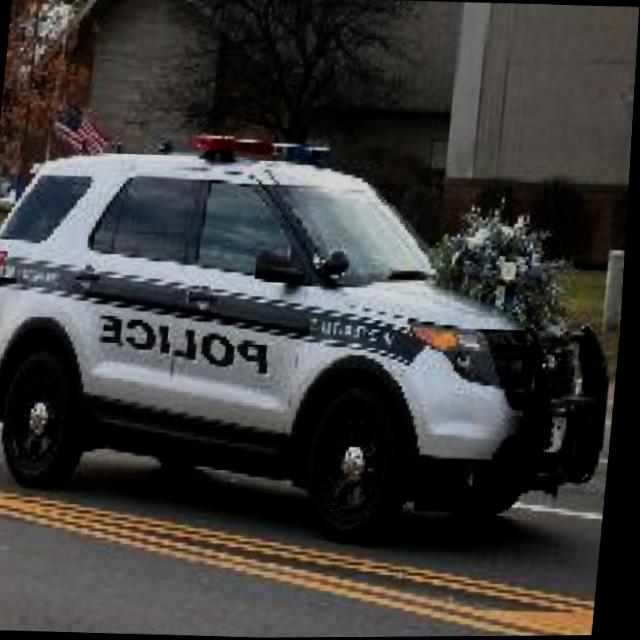emergency: (0, 121, 634, 555)
